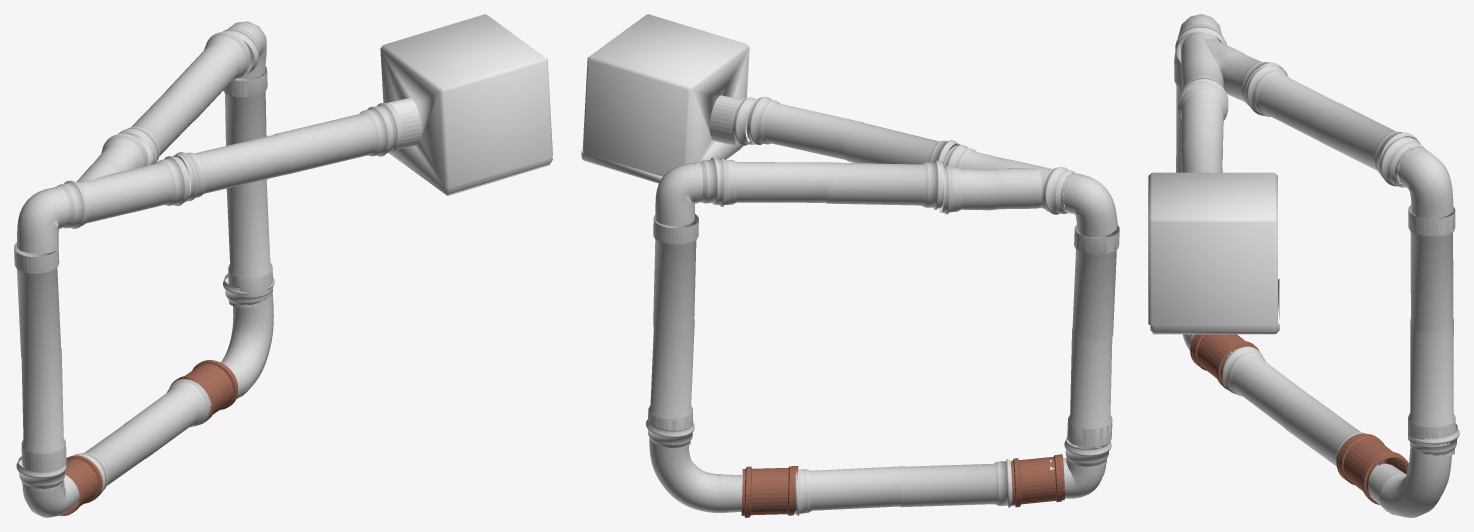
Rendered from canos.glb.
3 renders of one model, left to right at view 1: azimuth 30°, elevation 25°; view 2: azimuth 150°, elevation 25°; view 3: azimuth 270°, elevation 25°, orthographic. The views are drawn at different scales.
Parts seen in each view (by area): view 1: Cube.001, Circle.011, Circle.008, Circle.017, Circle.010, Circle.014, Circle.018, BezierCurve, BezierCurve.005, BezierCurve.007, Circle.019, Circle.007 (+1 smaller); view 2: Cube.001, Circle.014, Circle.018, Circle.011, Circle.017, Circle.008, Circle.010, BezierCurve, BezierCurve.005, BezierCurve.004, Circle.019, Circle.007 (+2 smaller); view 3: Cube.001, Circle.017, Circle.014, Circle.018, BezierCurve, BezierCurve.004, Circle.008, Circle.010, Circle.019, Circle.007, BezierCurve.005, Circle.011.
Part boxes in pixels (x1=…): Cube.001: x1=380, y1=14, x2=552, y2=195; Circle.011: x1=14, y1=242, x2=66, y2=472; Circle.008: x1=173, y1=106, x2=393, y2=201; Circle.017: x1=223, y1=66, x2=273, y2=297; Circle.010: x1=77, y1=133, x2=190, y2=223; Circle.014: x1=118, y1=31, x2=250, y2=165; Circle.018: x1=73, y1=378, x2=210, y2=495; BezierCurve: x1=210, y1=273, x2=274, y2=405; BezierCurve.005: x1=17, y1=180, x2=89, y2=253; BezierCurve.007: x1=16, y1=455, x2=79, y2=517; Circle.019: x1=170, y1=360, x2=238, y2=424; Circle.007: x1=54, y1=455, x2=102, y2=516; Cube.001: x1=581, y1=14, x2=749, y2=183; Circle.014: x1=716, y1=158, x2=943, y2=209; Circle.018: x1=794, y1=459, x2=1014, y2=515; Circle.011: x1=1067, y1=225, x2=1119, y2=447; Circle.017: x1=648, y1=214, x2=698, y2=430; Circle.008: x1=746, y1=96, x2=960, y2=165; Circle.010: x1=939, y1=145, x2=1051, y2=214; BezierCurve: x1=646, y1=419, x2=742, y2=512; BezierCurve.005: x1=1041, y1=166, x2=1117, y2=237; BezierCurve.004: x1=655, y1=157, x2=719, y2=225; Circle.019: x1=741, y1=466, x2=798, y2=517; Circle.007: x1=1010, y1=454, x2=1064, y2=507; Cube.001: x1=1148, y1=172, x2=1279, y2=334; Circle.017: x1=1408, y1=204, x2=1455, y2=447; Circle.014: x1=1245, y1=65, x2=1420, y2=180; Circle.018: x1=1222, y1=346, x2=1382, y2=466; BezierCurve: x1=1368, y1=424, x2=1459, y2=517; BezierCurve.004: x1=1379, y1=137, x2=1453, y2=218; Circle.008: x1=1178, y1=81, x2=1228, y2=172; Circle.010: x1=1178, y1=32, x2=1287, y2=105; Circle.019: x1=1336, y1=433, x2=1408, y2=504; Circle.007: x1=1190, y1=334, x2=1259, y2=389; BezierCurve.005: x1=1174, y1=14, x2=1226, y2=68; Circle.011: x1=1174, y1=63, x2=1181, y2=172.
Size of the model in its own units: 8.22 by 5.83 by 4.16.
